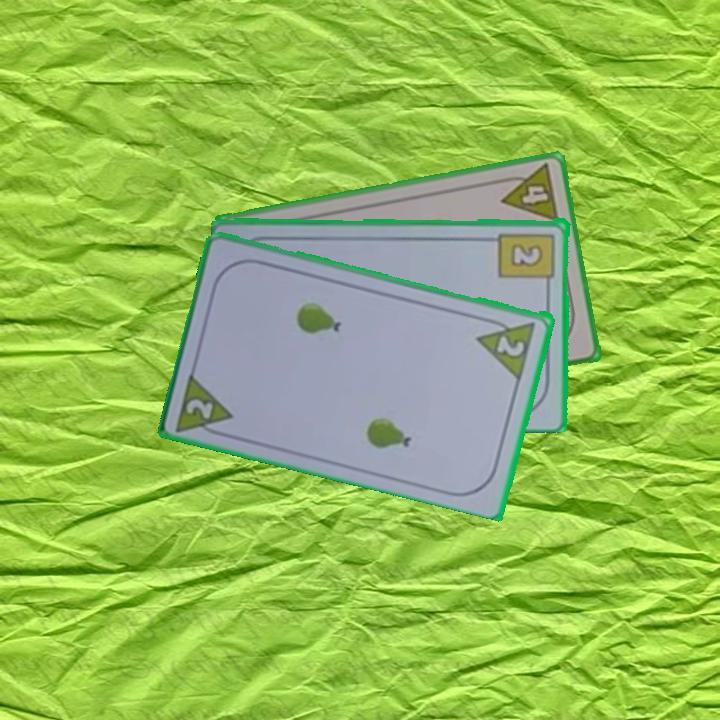2b: (496, 229, 557, 290)
2p: (172, 368, 238, 441), (493, 332, 528, 359)
4p: (495, 160, 562, 225)
